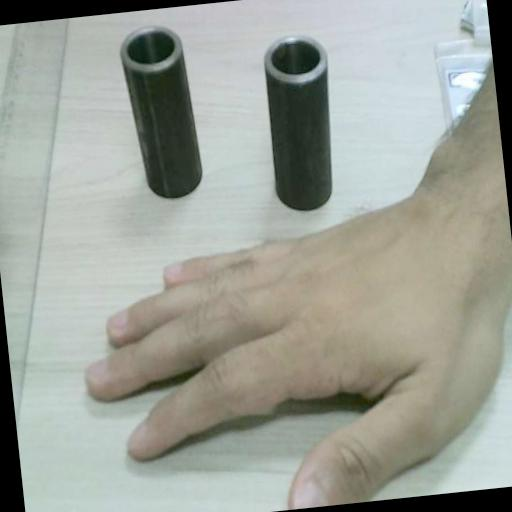peca: (120, 27, 201, 198), (264, 36, 332, 210)
